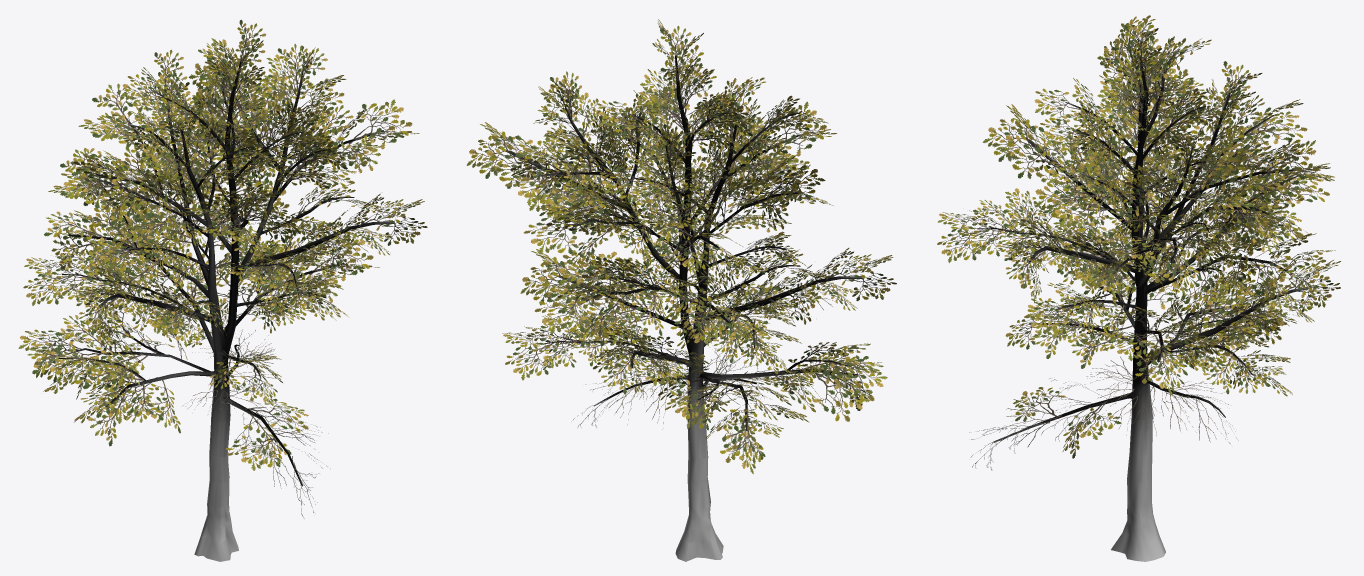
Rendered from PW_Tree_Oak_03.fbx.
3 renders of one model, left to right at view 1: azimuth 30°, elevation 25°; view 2: azimuth 150°, elevation 25°; view 3: azimuth 270°, elevation 25°, orthographic. The views are drawn at different scales.
Visible parts, largest first — view 1: PW_Tree_Oak_03_LOD0; view 2: PW_Tree_Oak_03_LOD0; view 3: PW_Tree_Oak_03_LOD0.
Part boxes in pixels (x1,y1,x2,y2): PW_Tree_Oak_03_LOD0: (18,19,427,561); PW_Tree_Oak_03_LOD0: (466,19,896,561); PW_Tree_Oak_03_LOD0: (937,15,1340,561).
Size of what is drawn, in the model's own units: 549 by 684 by 476.
